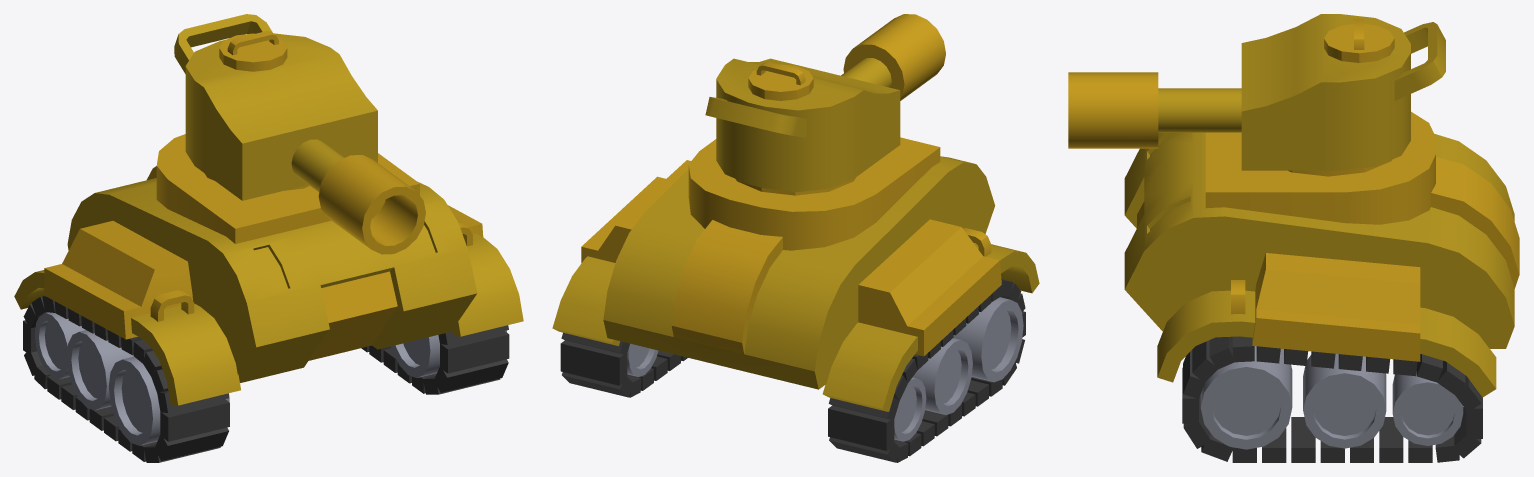
The model's file is tank.glb.
3 views of the same model, side by side, from view 1: azimuth 30°, elevation 25°; view 2: azimuth 150°, elevation 25°; view 3: azimuth 270°, elevation 25° (orthographic). The views are drawn at different scales.
Parts seen in each view (by area): view 1: Tank; view 2: Tank; view 3: Tank.
Part boxes in pixels (x1,y1,x2,y2): Tank: (14,14,523,462); Tank: (552,14,1039,462); Tank: (1068,14,1519,462).
Size of the model in its own units: 2.37 by 2.14 by 2.5.
